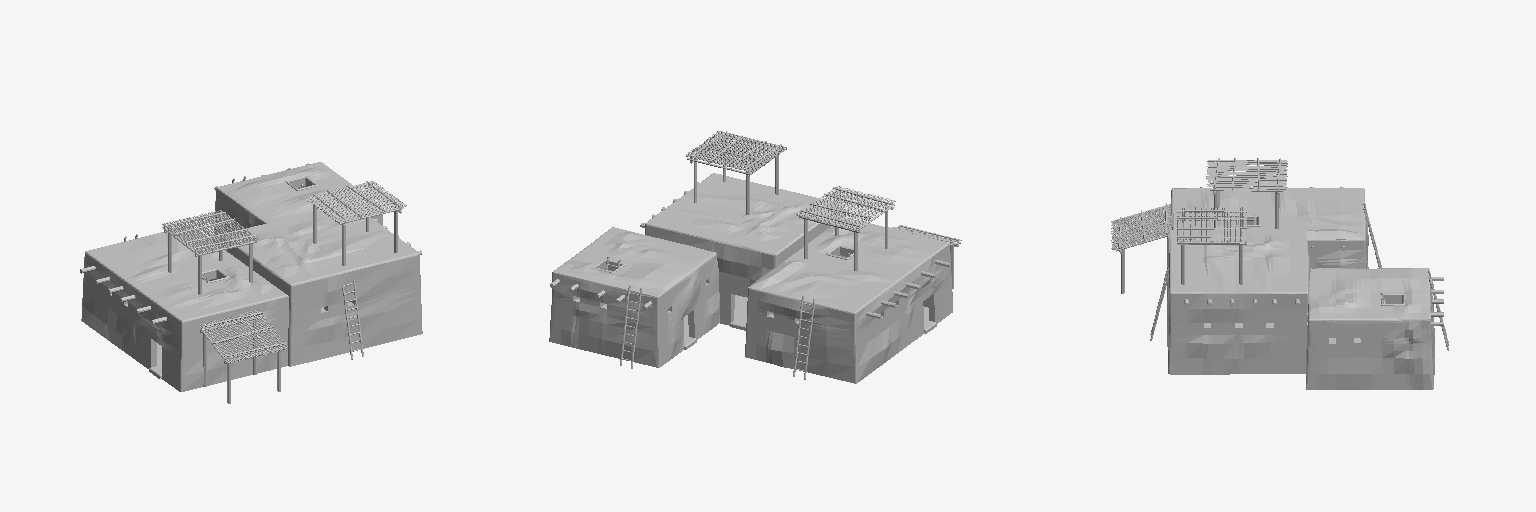
File: lowpoly_turkish_house_003.obj
3 views of the same model, side by side, from view 1: azimuth 30°, elevation 25°; view 2: azimuth 150°, elevation 25°; view 3: azimuth 270°, elevation 25° (orthographic).
Visible parts, largest first — view 1: Cube.102, Cube.100, Cube.101, Cylinder.062, Cylinder.059, Cylinder.008; view 2: Cube.102, Cube.101, Cube.100, Cylinder.062, Cylinder.008; view 3: Cube.100, Cube.101, Cube.102, Cylinder.008, Cylinder.062, Cylinder.059.
Boxes of the visible parts, box(x1,y1,x2,y2) form: Cube.102: box(81, 227, 288, 391); Cube.100: box(223, 206, 422, 366); Cube.101: box(213, 162, 382, 244); Cylinder.062: box(304, 181, 406, 265); Cylinder.059: box(199, 310, 287, 403); Cylinder.008: box(162, 210, 258, 294); Cube.102: box(745, 218, 952, 383); Cube.101: box(549, 227, 719, 367); Cube.100: box(645, 173, 843, 325); Cylinder.062: box(686, 131, 786, 214); Cylinder.008: box(796, 186, 895, 270); Cube.100: box(1167, 229, 1311, 374); Cube.101: box(1306, 268, 1434, 389); Cube.102: box(1171, 188, 1368, 268); Cylinder.008: box(1206, 158, 1287, 228); Cylinder.062: box(1177, 207, 1246, 284); Cylinder.059: box(1111, 203, 1171, 293).
Bounding box in the file's own units: 9.48 × 4.07 × 9.65.